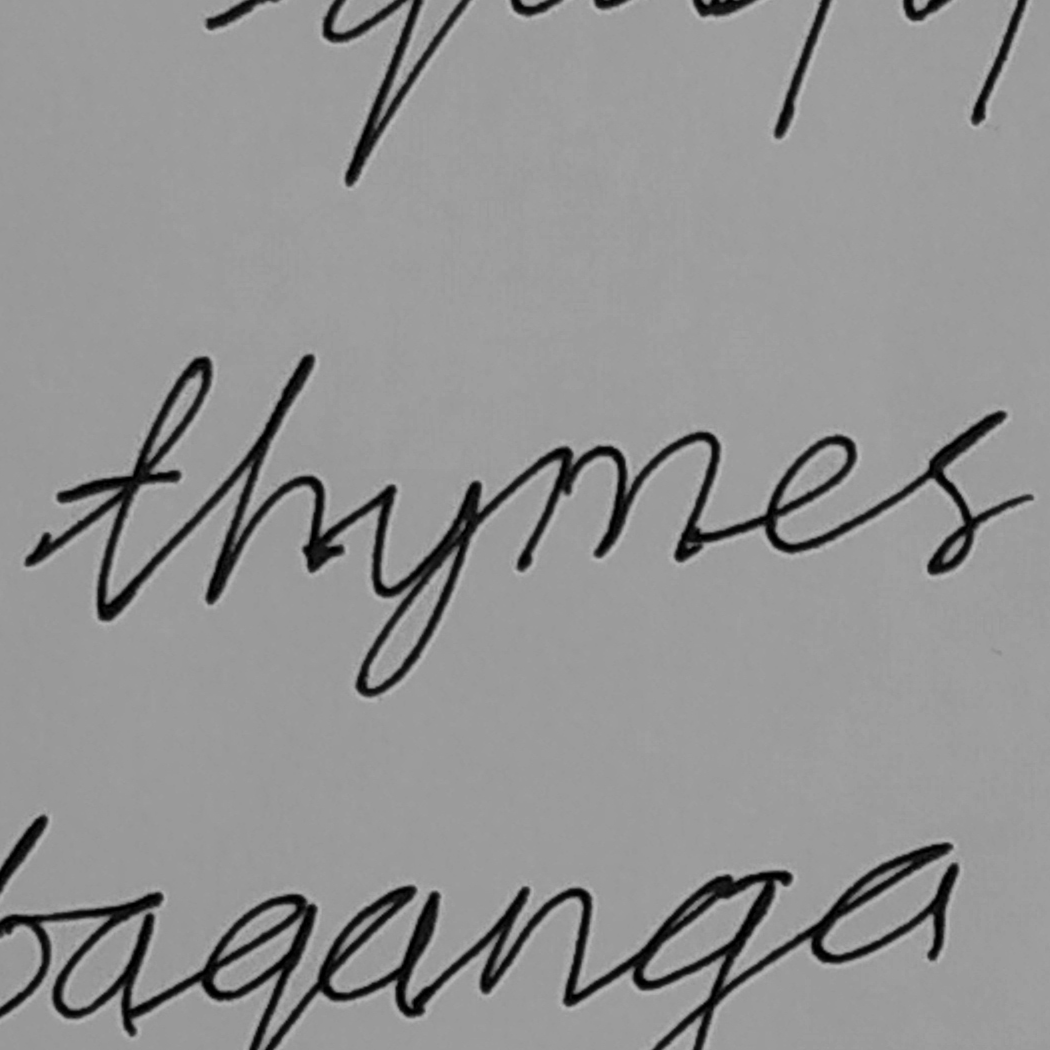e: (761, 427, 860, 560)
h: (201, 351, 333, 608)
m: (509, 425, 727, 581)
s: (920, 406, 1012, 585)
t: (54, 351, 217, 624)
y: (349, 476, 486, 700)
